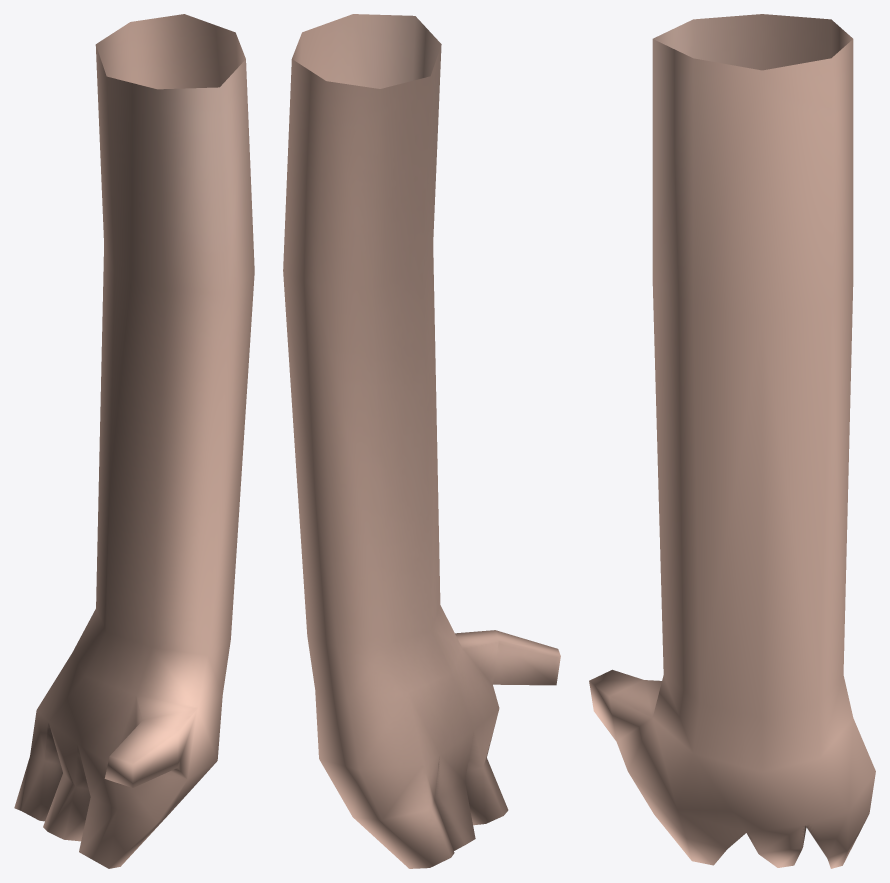
Rendered from brazoinfizq.obj.
3 views of the same model, side by side, from view 1: azimuth 30°, elevation 25°; view 2: azimuth 150°, elevation 25°; view 3: azimuth 270°, elevation 25° (orthographic). The views are drawn at different scales.
Parts seen in each view (by area): view 1: brazinfizq_Material.001; view 2: brazinfizq_Material.001; view 3: brazinfizq_Material.001.
Boxes of the visible parts, x1,y1,x2,y2 form: brazinfizq_Material.001: (14, 14, 254, 868); brazinfizq_Material.001: (283, 14, 560, 868); brazinfizq_Material.001: (589, 14, 875, 868).
Bounding box in the file's own units: 4.23 × 15.67 × 4.65.
